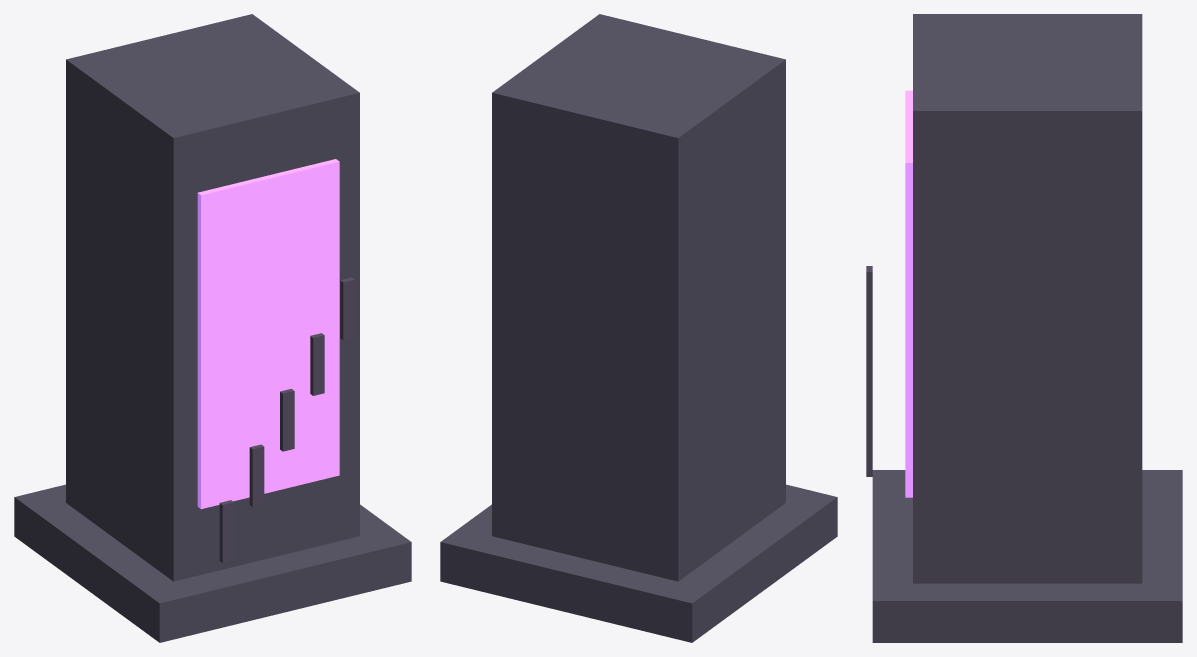
File: signal-kiosk-cracked.glb
3 views of the same model, side by side, from view 1: azimuth 30°, elevation 25°; view 2: azimuth 150°, elevation 25°; view 3: azimuth 270°, elevation 25° (orthographic). The views are drawn at different scales.
Parts seen in each view (by area): view 1: housing, signal, base, fracture-1, fracture-3, fracture-4, fracture-2, fracture-0; view 2: housing, base; view 3: housing, base, signal, fracture-4.
Boxes of the visible parts, x1=… form: housing: x1=66, y1=14, x2=359, y2=581; signal: x1=197, y1=159, x2=339, y2=509; base: x1=14, y1=484, x2=411, y2=642; fracture-1: x1=249, y1=444, x2=264, y2=507; fracture-3: x1=310, y1=333, x2=324, y2=395; fracture-4: x1=340, y1=277, x2=354, y2=340; fracture-2: x1=280, y1=388, x2=294, y2=451; fracture-0: x1=219, y1=500, x2=233, y2=562; housing: x1=492, y1=14, x2=785, y2=581; base: x1=440, y1=484, x2=837, y2=642; housing: x1=913, y1=14, x2=1142, y2=583; base: x1=872, y1=470, x2=1182, y2=642; signal: x1=905, y1=90, x2=912, y2=497; fracture-4: x1=866, y1=266, x2=872, y2=333.
Size of the model in its own units: 1.2 by 2.2 by 1.23.
